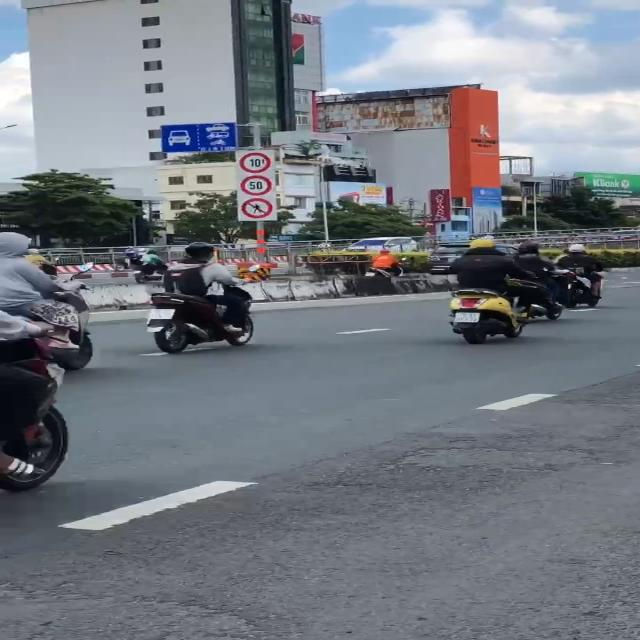Bien bao cam nguoi di bo: (241, 197, 277, 220)
Bien bao toc do toi da cho phep: (239, 174, 276, 197)
